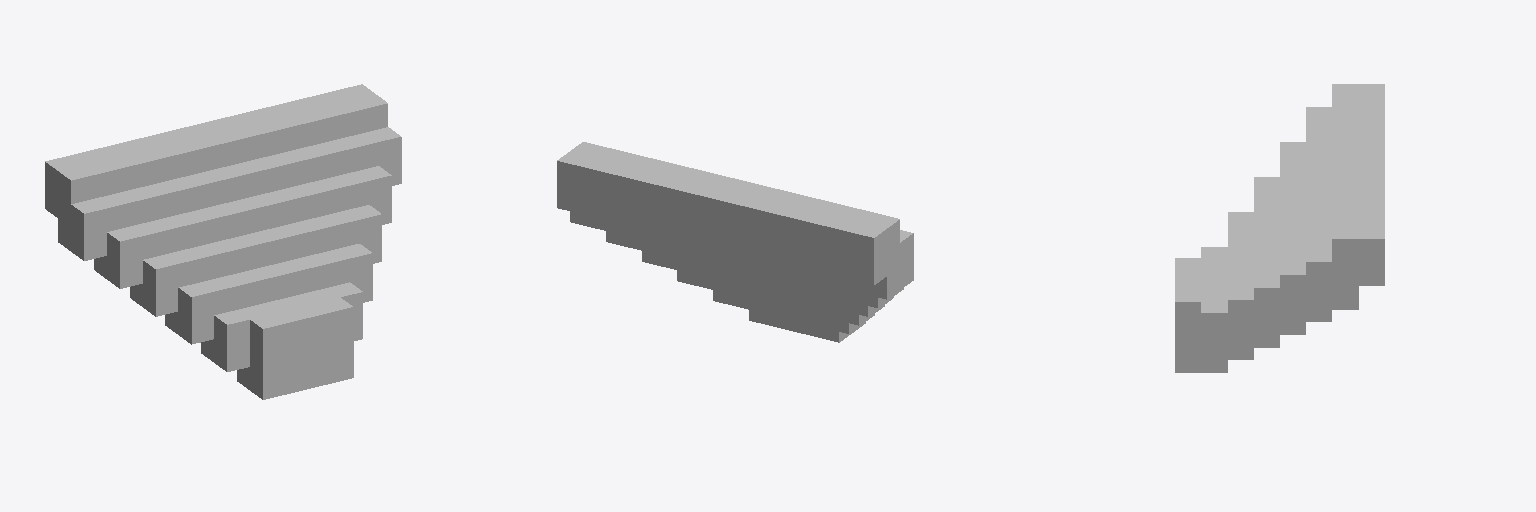
The model's file is tnt spawner handler button down.obj.
3 renders of one model, left to right at view 1: azimuth 30°, elevation 25°; view 2: azimuth 150°, elevation 25°; view 3: azimuth 270°, elevation 25°, orthographic.
Parts seen in each view (by area): view 1: object 1; view 2: object 1; view 3: object 1.
Part boxes in pixels (x1,y1,x2,y2): object 1: (45,84,401,399); object 1: (557,142,913,342); object 1: (1175,84,1384,372).
Size of the model in its own units: 1.4 by 0.8 by 0.8.